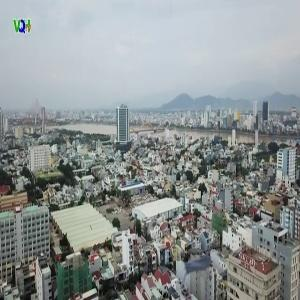drone: (169, 226, 233, 290)
